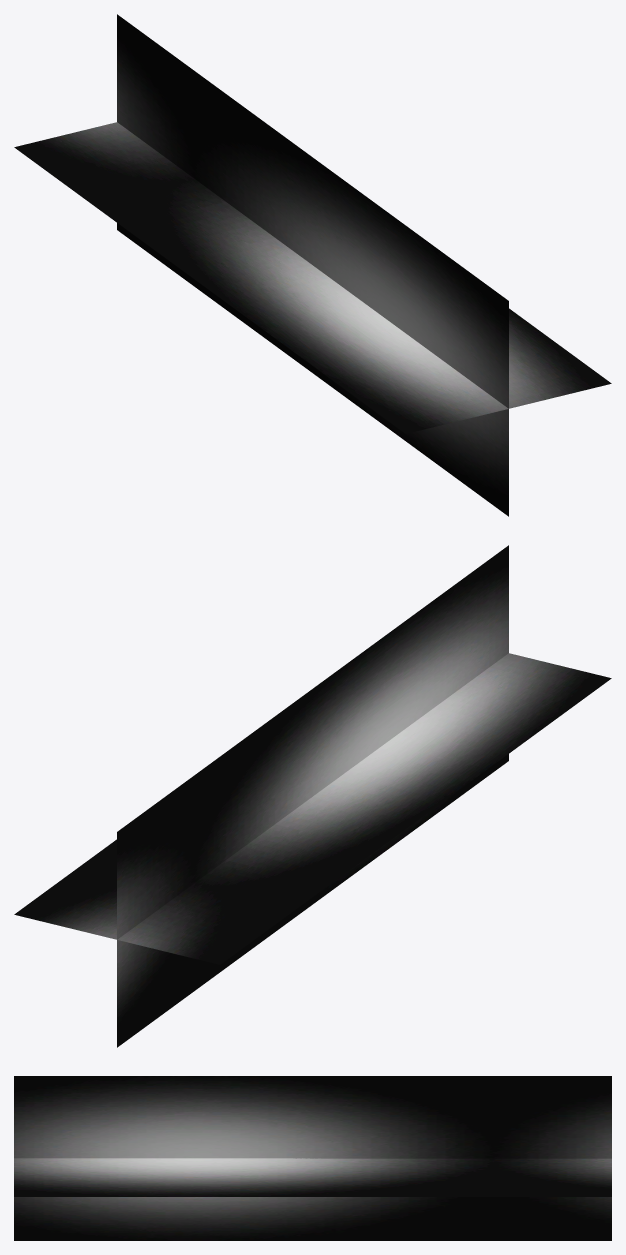
File: vfx_kurp_1130.dae
The picture shows the model from 3 angles, top to bottom: view 1: azimuth 30°, elevation 25°; view 2: azimuth 150°, elevation 25°; view 3: azimuth 270°, elevation 25°; orthographic projection. The views are drawn at different scales.
Visible parts, largest first — view 1: vfx_kurp_1130; view 2: vfx_kurp_1130; view 3: vfx_kurp_1130.
Boxes of the visible parts, box(x1,y1,x2,y2) form: vfx_kurp_1130: box(14, 14, 611, 516); vfx_kurp_1130: box(14, 545, 611, 1047); vfx_kurp_1130: box(14, 1076, 611, 1240).
Bounding box in the file's own units: 2.89 × 9.51 × 2.89.
1 material, 1 textured.
